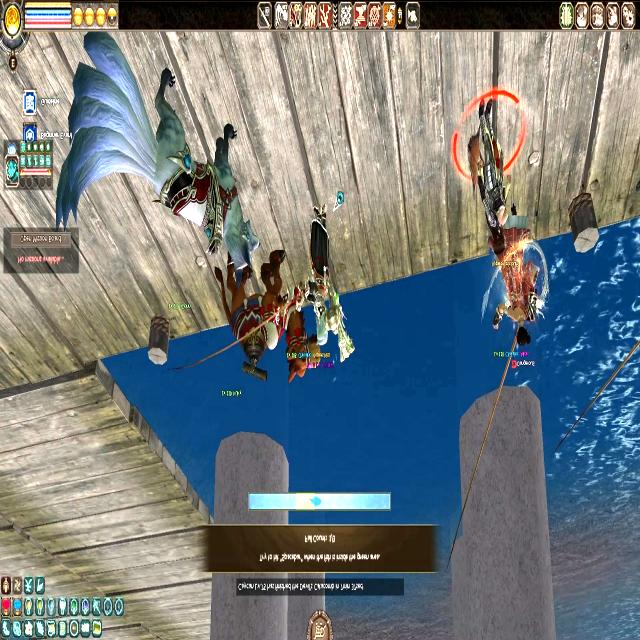fishes: (309, 494, 322, 508)
